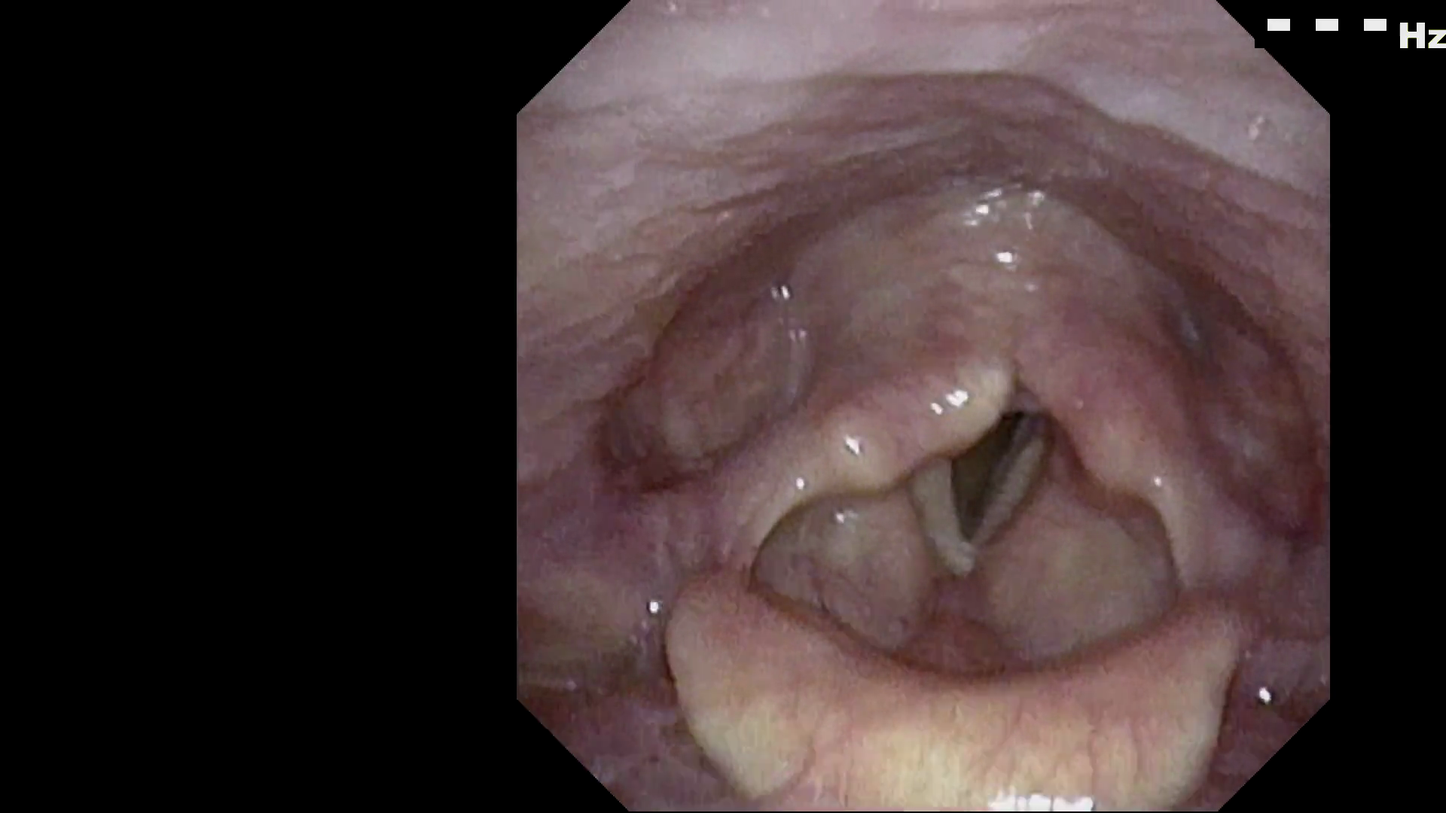epiglottis: (665, 611, 1232, 780)
trachea: (903, 392, 1069, 564)
